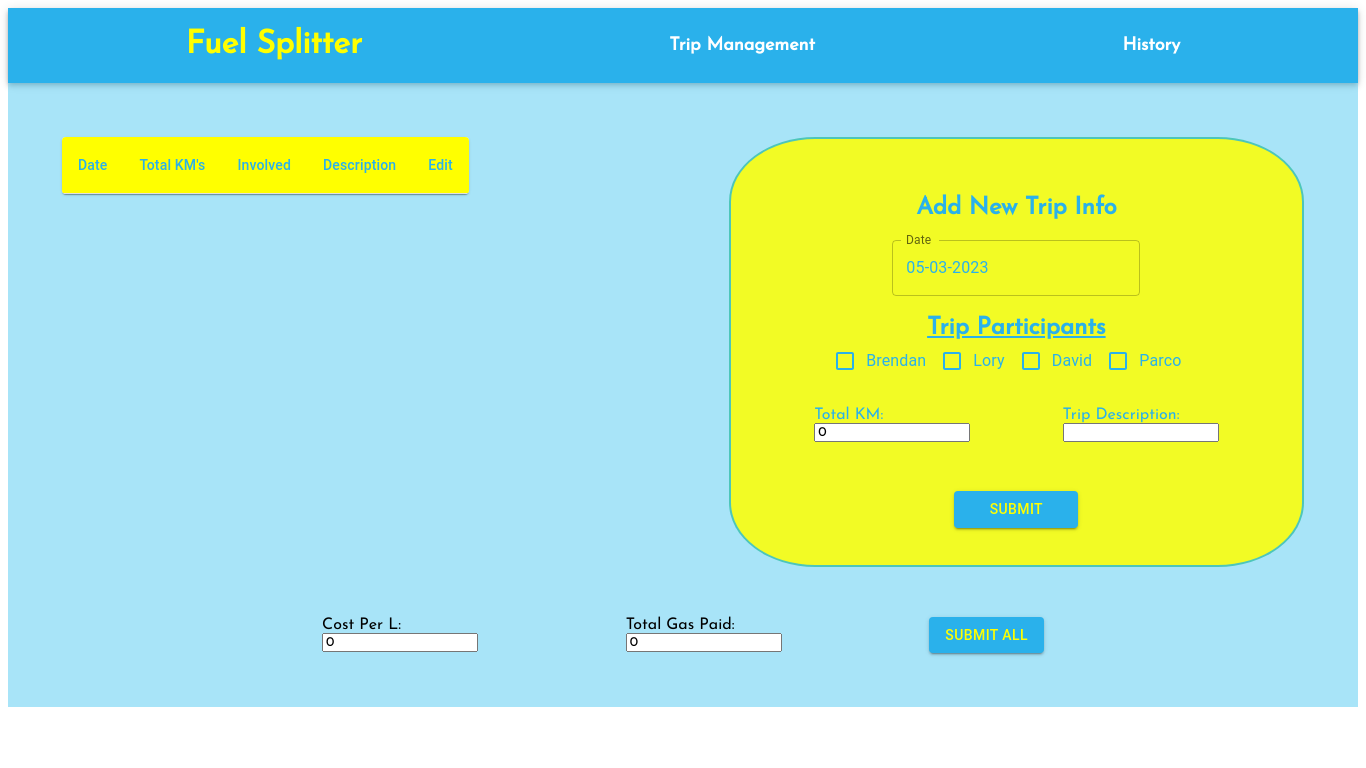
Scenario: Error Handling › should remove error if all sections are filled
The image size is (1366, 768).
Click the button with test id "submit_trip".
click(1016, 510)  # box 954,491 -> 1078,528
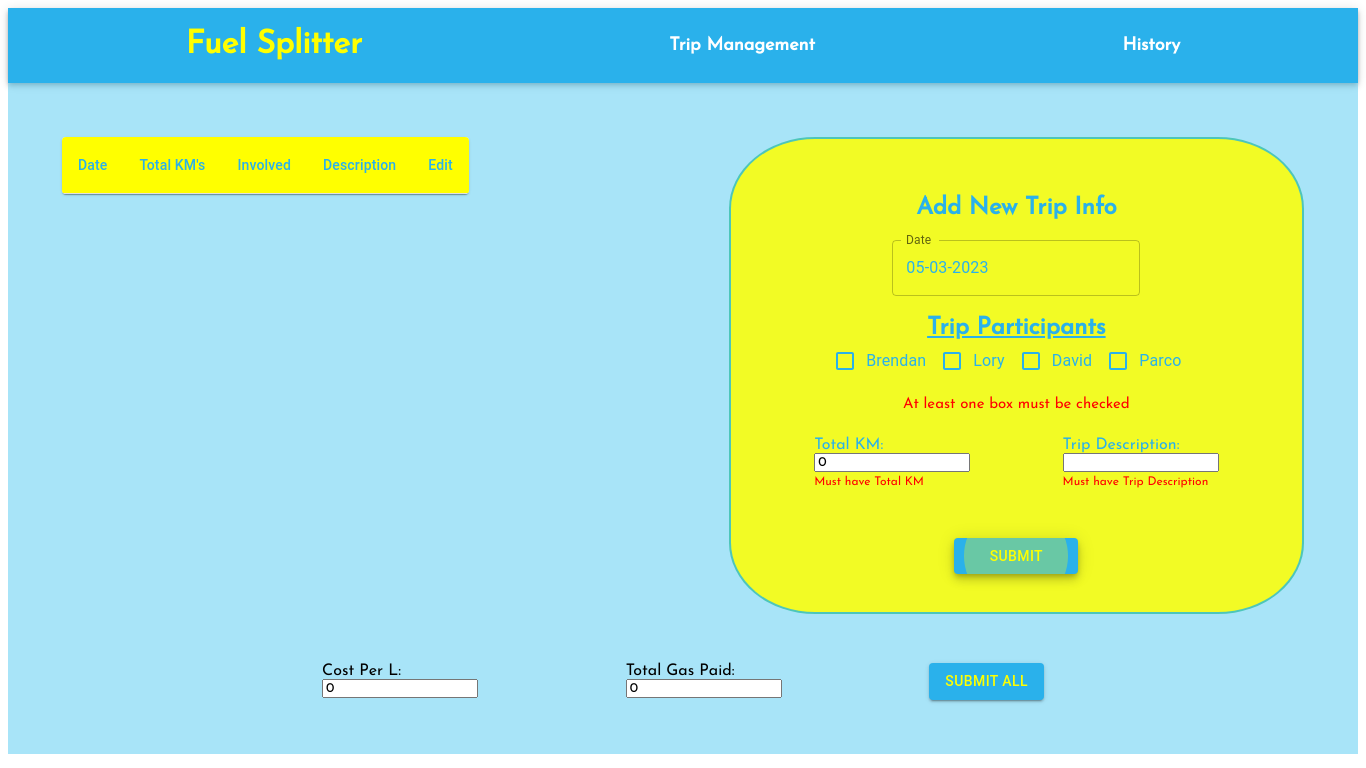
Click the checkbox labelled "Brendan".
click(880, 361)  # box 833,349 -> 926,373
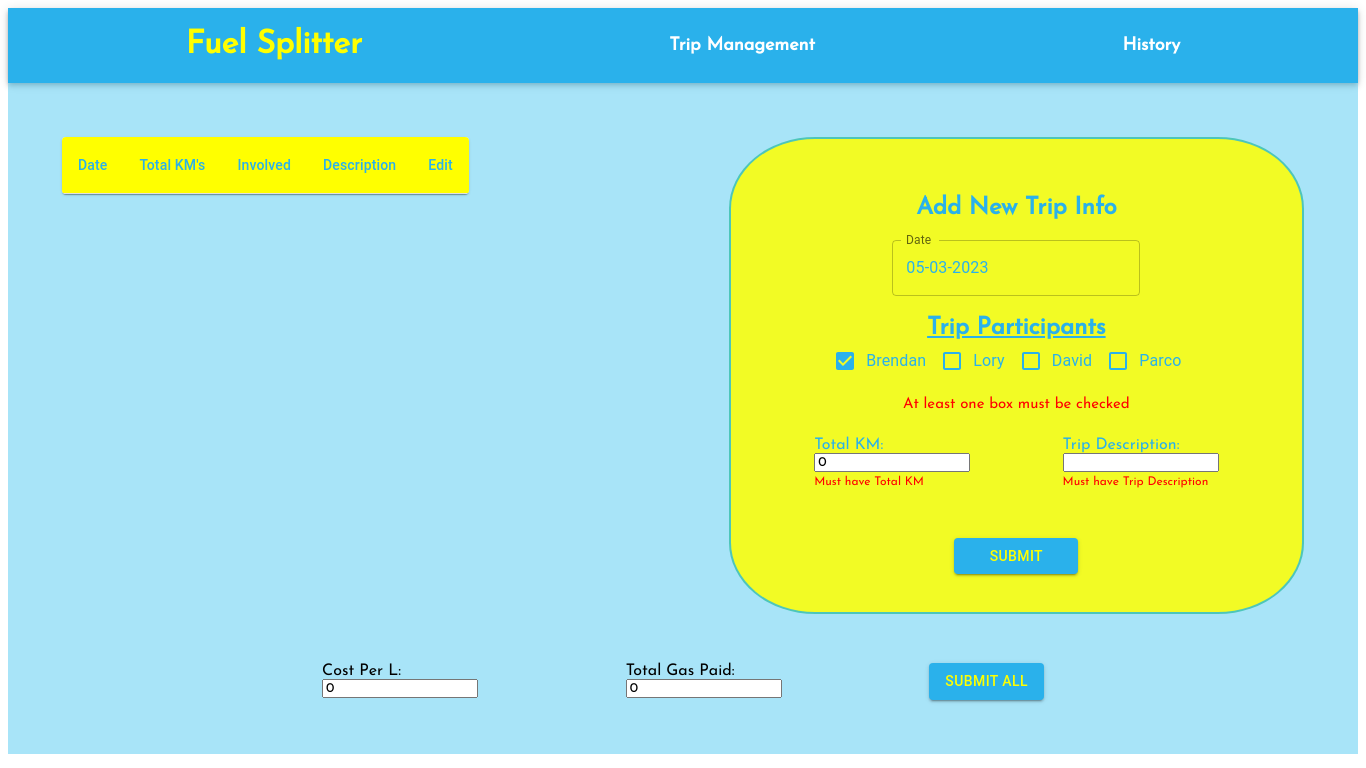
Click the button with test id "submit_trip".
click(1016, 557)  # box 954,538 -> 1078,575
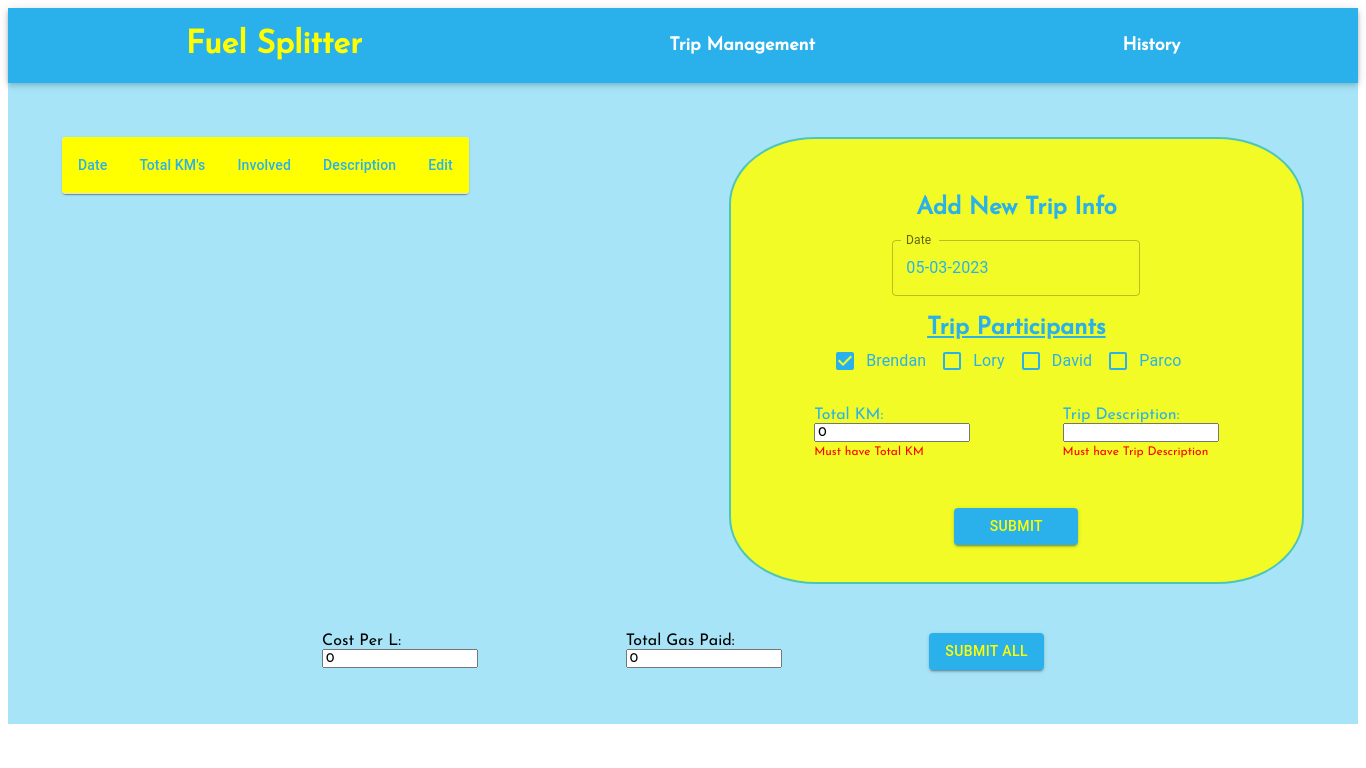
Check: the text "Must have Total KM" is shown, box 814,446 -> 924,458
Type "25" into the field with test id "totalKM".
click(892, 433); type("25")  # box 814,423 -> 970,442
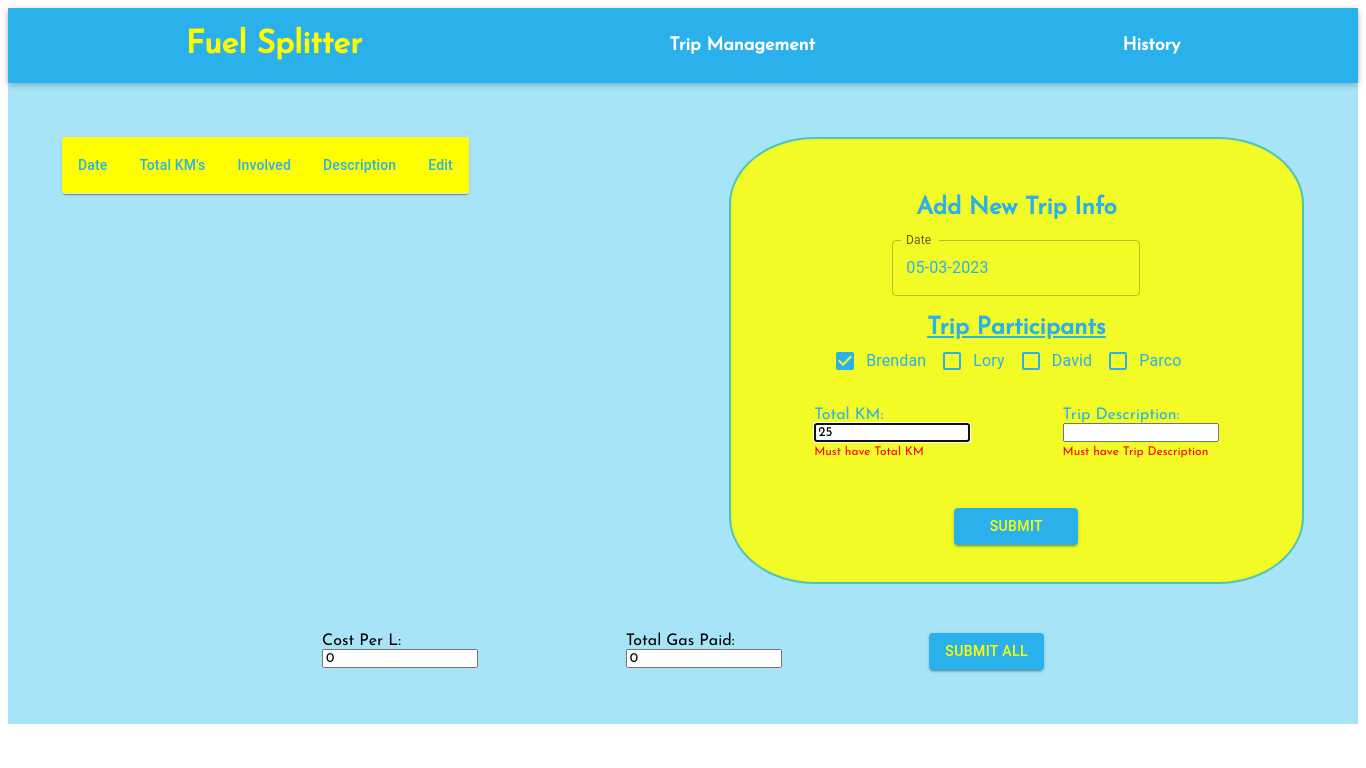
Type "Airport" into the field with test id "description".
click(1141, 433); type("Airport")  # box 1063,423 -> 1219,442
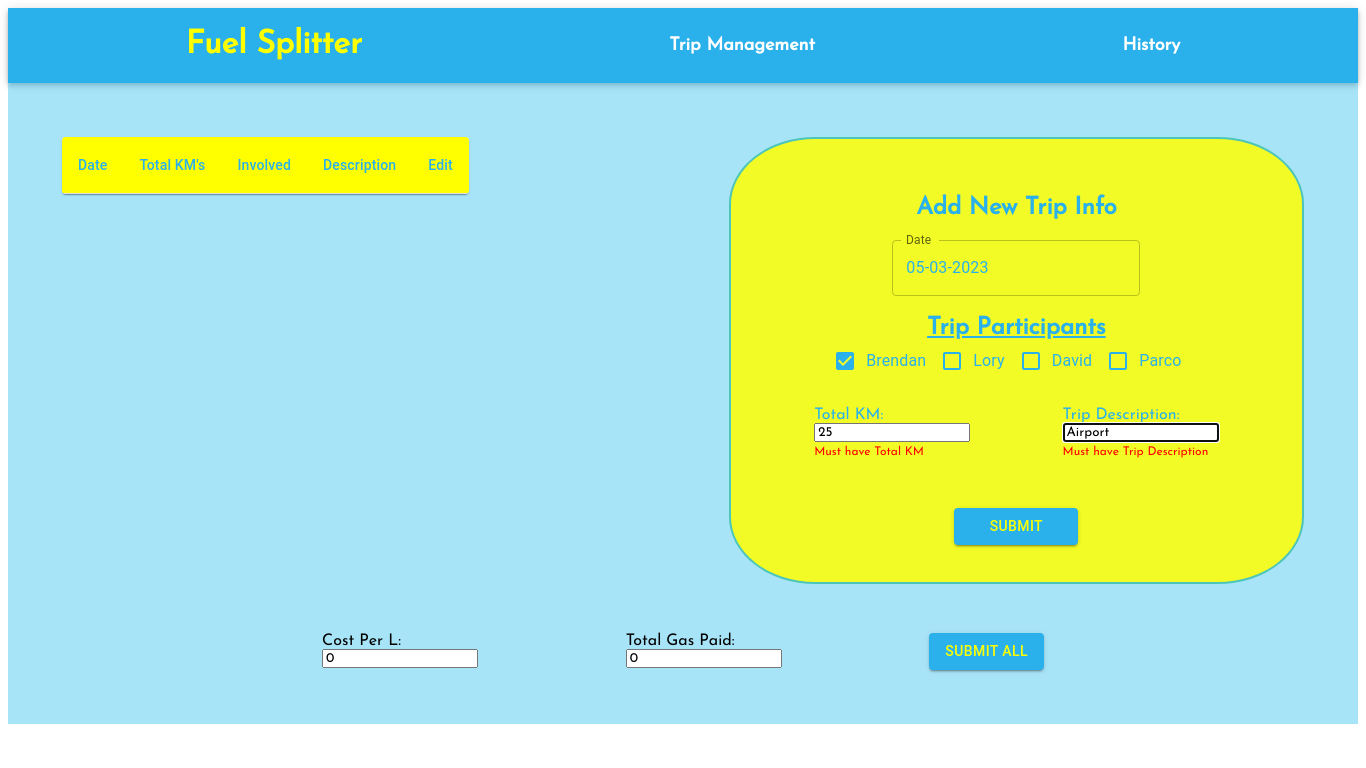
Click the button with test id "submit_trip".
click(1016, 527)  # box 954,508 -> 1078,545
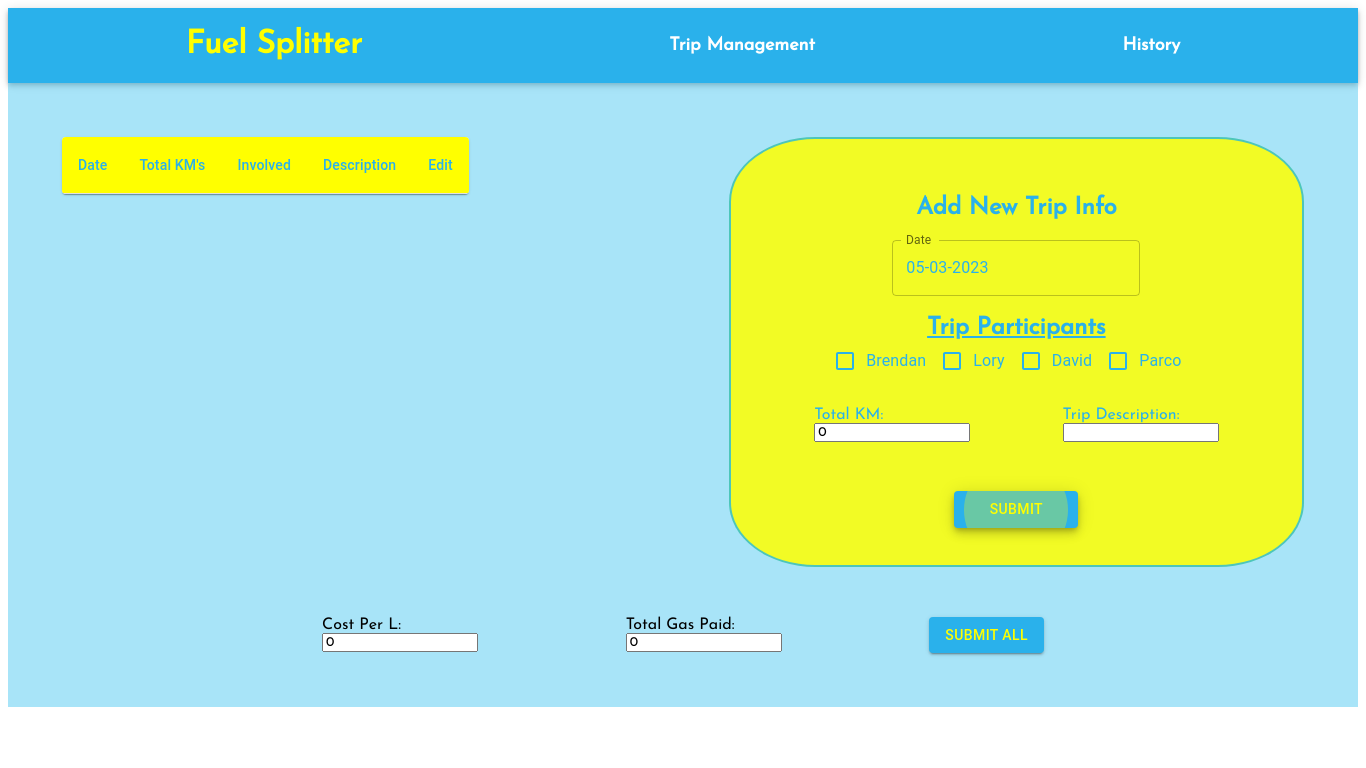
Check: the text with class "error" is gone
